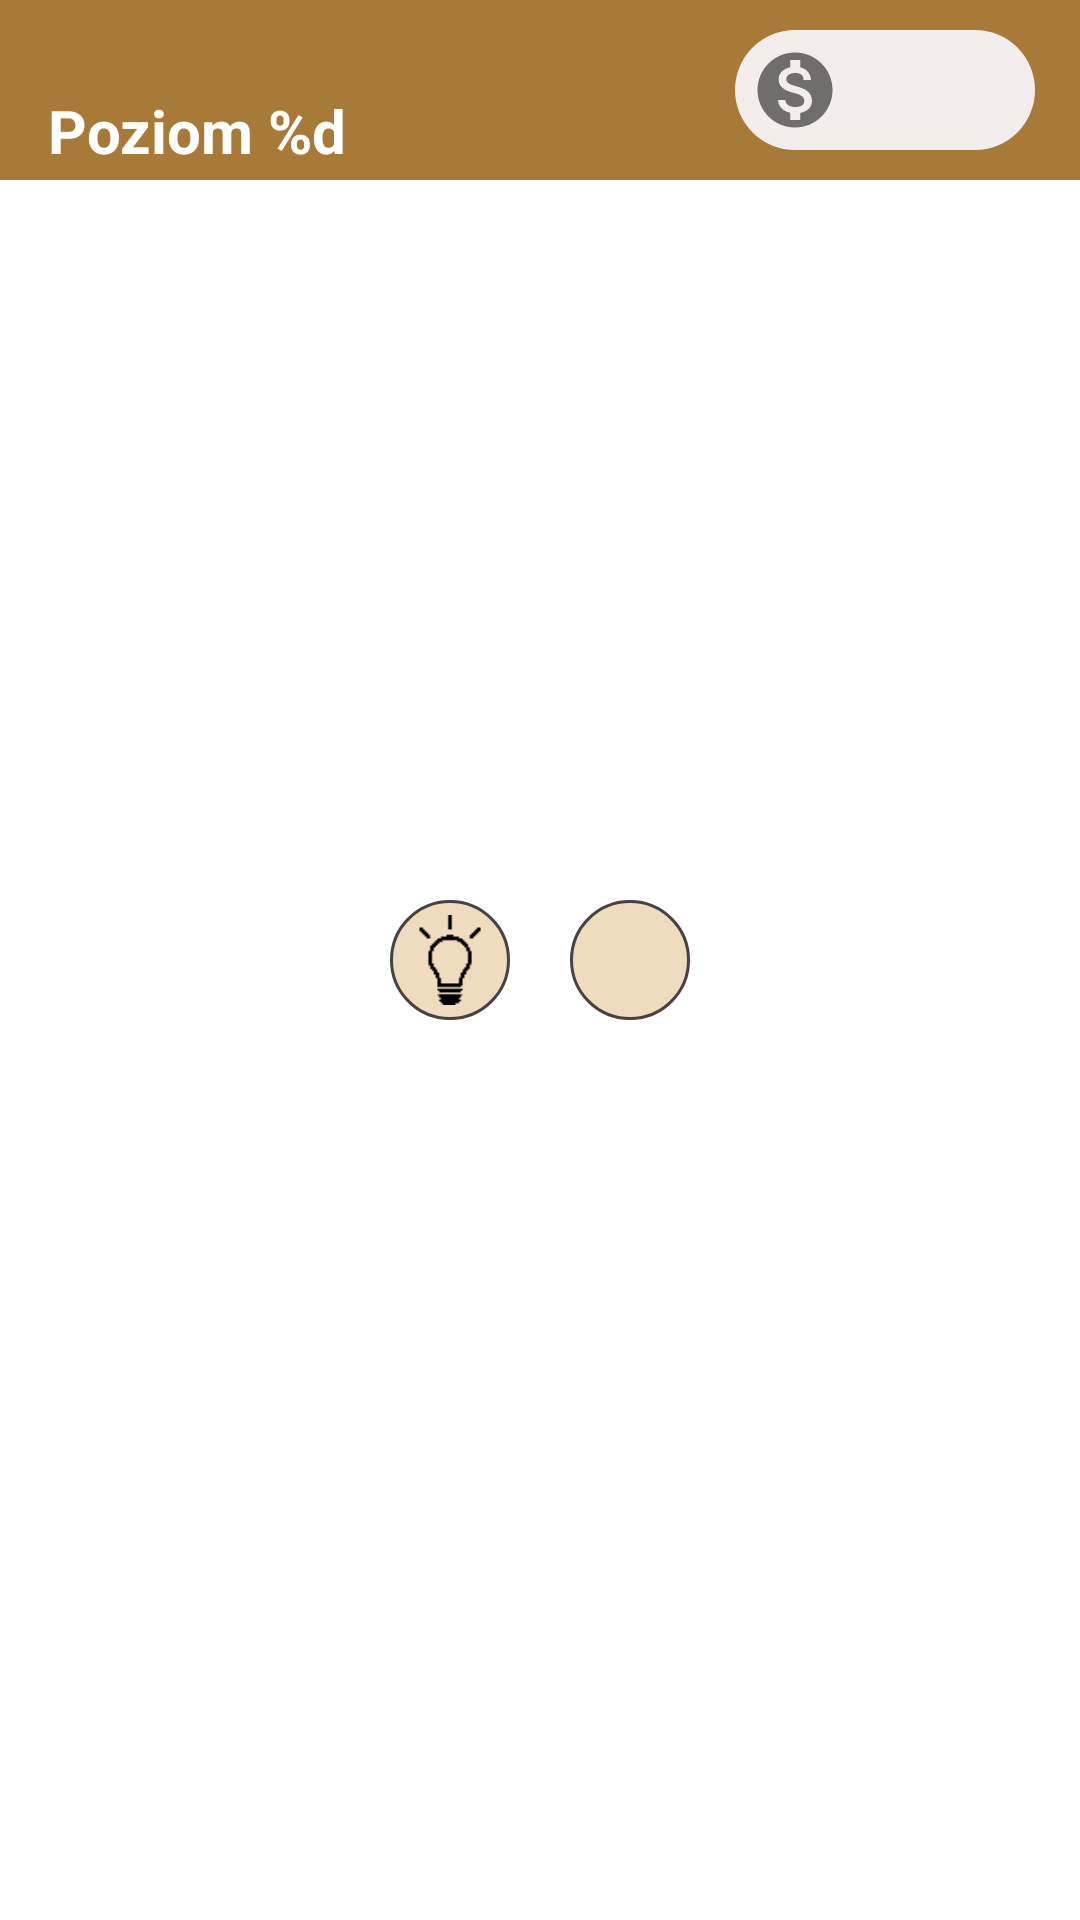

Locate icon controls on the screen. Image size 1080w x 1920h, boxes as (x1, y1, x2, y2).
Ikona monety: (757, 52, 833, 128)
Otwórz panel podpowiedzi: (390, 900, 510, 1020)
